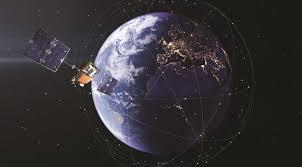body: (70, 60, 101, 87)
solar: (21, 26, 73, 74), (95, 73, 121, 97)
